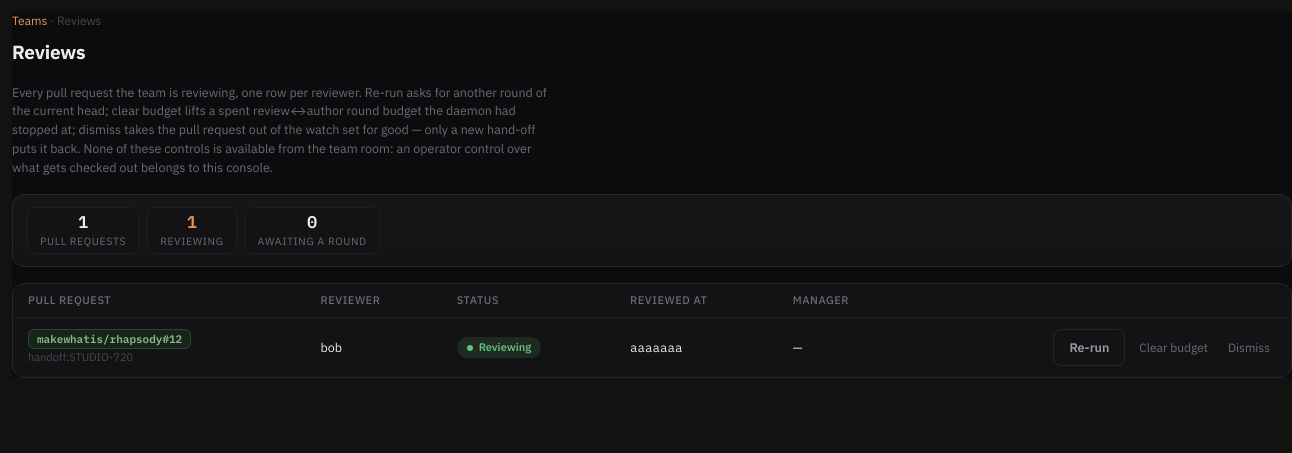
the Reviews surface › says a dismissal did not stop the review that was already running
The width and height of the screenshot is (1292, 453).
Click the button with aria-label "Dismiss makewhatis/rhapsody#12 from the watch set" at (1249, 348), box [1222,331,1276,365]
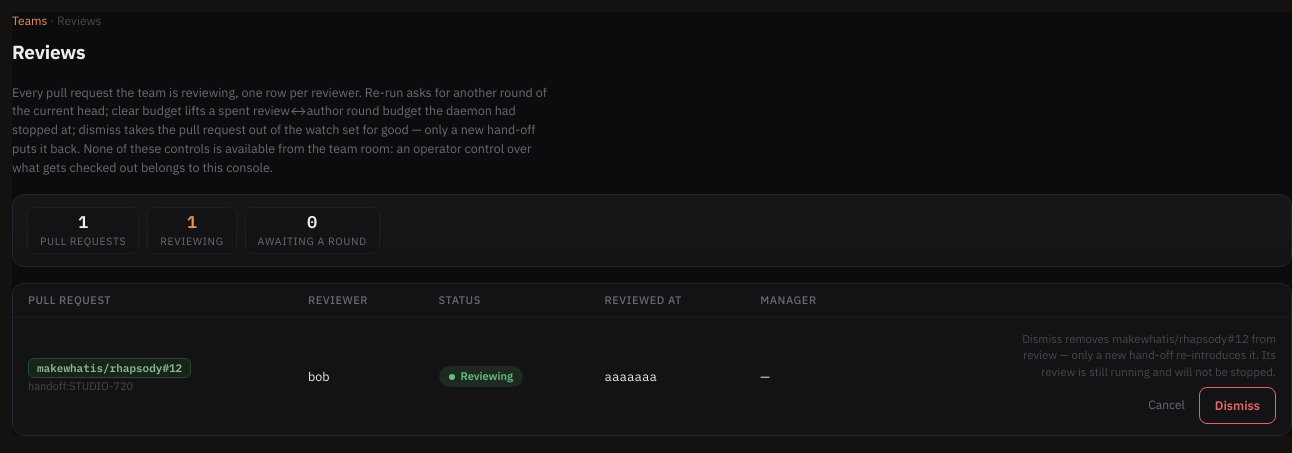
Result: the element named "Dismiss makewhatis/rhapsody#12?" shows "still running" at [1041,347,1276,379]
Click the button with aria-label "Confirm dismissing makewhatis/rhapsody#12" at (1237, 405), box [1199,387,1276,424]
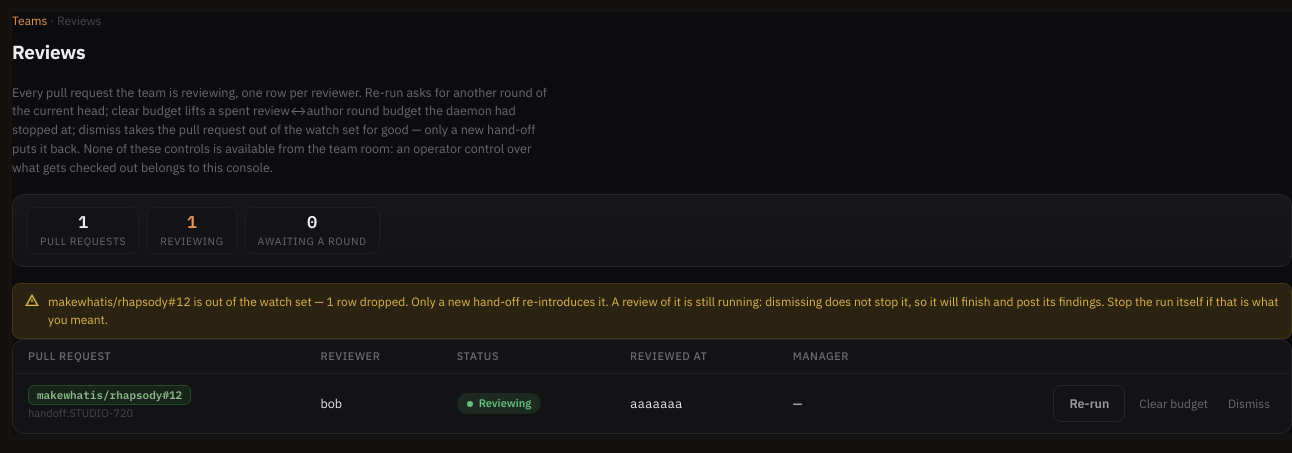
Result: the message shows "still running" at [48,294,1278,327]
